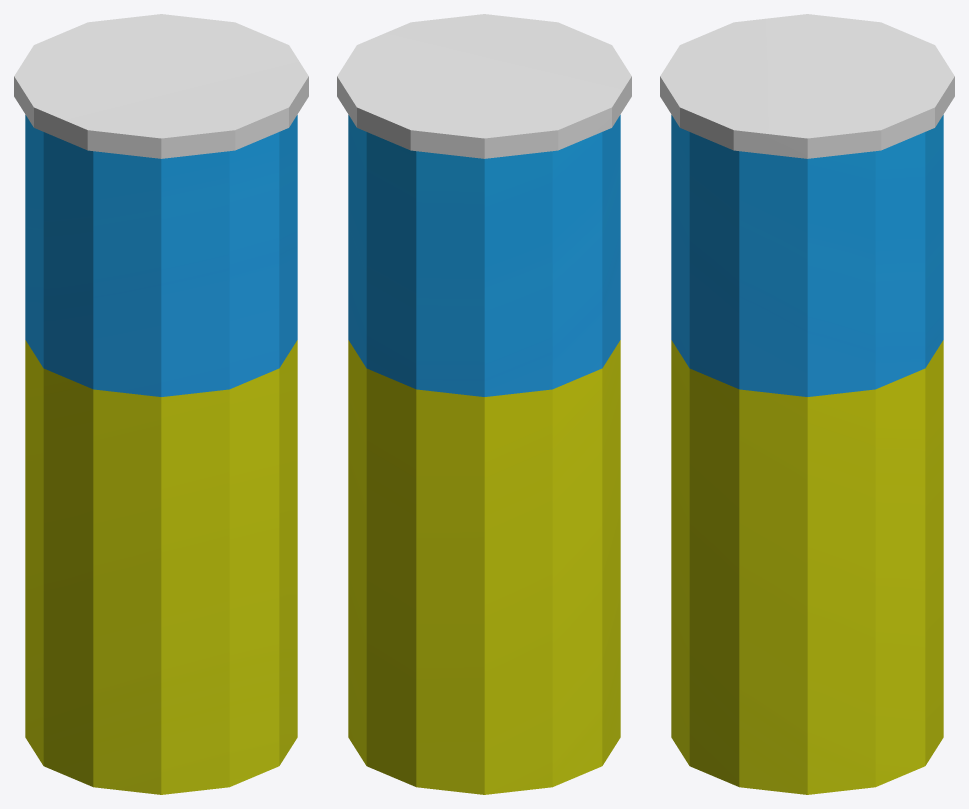
The model's file is Ürün14.fbx.
3 renders of one model, left to right at view 1: azimuth 30°, elevation 25°; view 2: azimuth 150°, elevation 25°; view 3: azimuth 270°, elevation 25°, orthographic.
Visible parts, largest first — view 1: pCylinder1; view 2: pCylinder1; view 3: pCylinder1.
Boxes of the visible parts, bbox=[...] form: pCylinder1: bbox=[14, 14, 308, 794]; pCylinder1: bbox=[337, 14, 631, 794]; pCylinder1: bbox=[660, 14, 954, 794].
Bounding box in the file's own units: 11.6 × 28.73 × 11.6.
